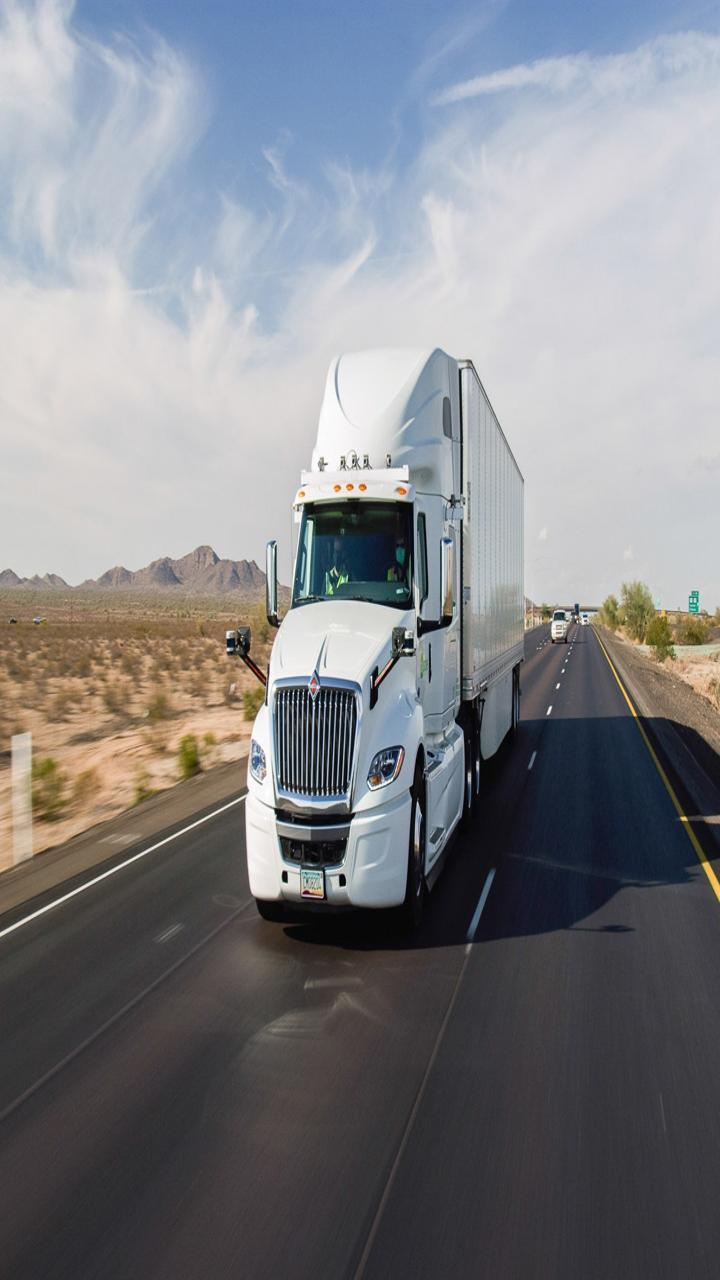vehicle: (214, 312, 546, 917)
